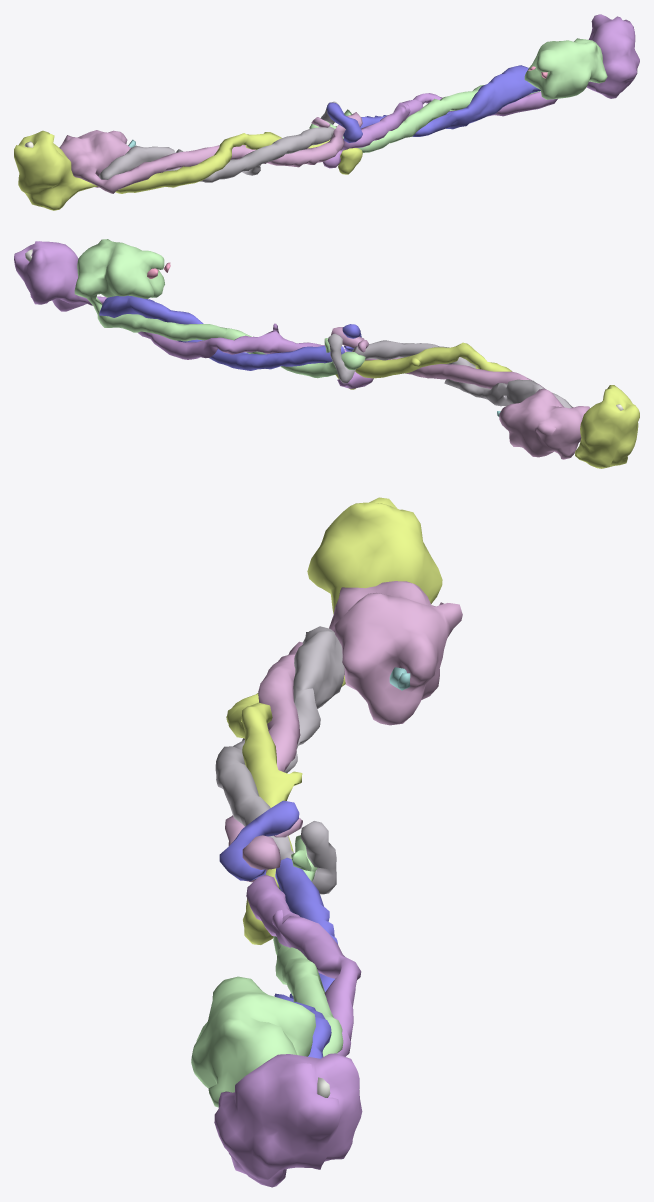
3 views of the same model, one above another, from view 1: azimuth 30°, elevation 25°; view 2: azimuth 150°, elevation 25°; view 3: azimuth 270°, elevation 25° (orthographic). The views are drawn at different scales.
Visible parts, largest first — view 1: 1m1j_surfaces_2.C, 1m1j_surfaces_2.B, 1m1j_surfaces_2.E, 1m1j_surfaces_2.F, 1m1j_surfaces_2.D, 1m1j_surfaces_2.A; view 2: 1m1j_surfaces_2.E, 1m1j_surfaces_2.F, 1m1j_surfaces_2.B, 1m1j_surfaces_2.C, 1m1j_surfaces_2.D, 1m1j_surfaces_2.A; view 3: 1m1j_surfaces_2.F, 1m1j_surfaces_2.B, 1m1j_surfaces_2.C, 1m1j_surfaces_2.E, 1m1j_surfaces_2.A, 1m1j_surfaces_2.D.
Part boxes in pixels (box(x1,y1,x2,y2)): 1m1j_surfaces_2.C: box(14, 130, 362, 210); 1m1j_surfaces_2.B: box(59, 112, 362, 193); 1m1j_surfaces_2.E: box(309, 38, 607, 152); 1m1j_surfaces_2.F: box(323, 14, 639, 168); 1m1j_surfaces_2.D: box(326, 65, 540, 142); 1m1j_surfaces_2.A: box(98, 101, 338, 182); 1m1j_surfaces_2.E: box(74, 239, 365, 378); 1m1j_surfaces_2.F: box(14, 241, 373, 388); 1m1j_surfaces_2.B: box(331, 327, 589, 459); 1m1j_surfaces_2.C: box(335, 342, 639, 468); 1m1j_surfaces_2.D: box(99, 295, 361, 370); 1m1j_surfaces_2.A: box(327, 333, 572, 408); 1m1j_surfaces_2.F: box(214, 874, 362, 1187); 1m1j_surfaces_2.B: box(225, 581, 462, 882); 1m1j_surfaces_2.C: box(226, 497, 442, 944); 1m1j_surfaces_2.E: box(191, 835, 343, 1107); 1m1j_surfaces_2.A: box(215, 626, 344, 894); 1m1j_surfaces_2.D: box(219, 800, 337, 1058).
Size of the model in its own units: 459 by 63.73 by 89.55.
